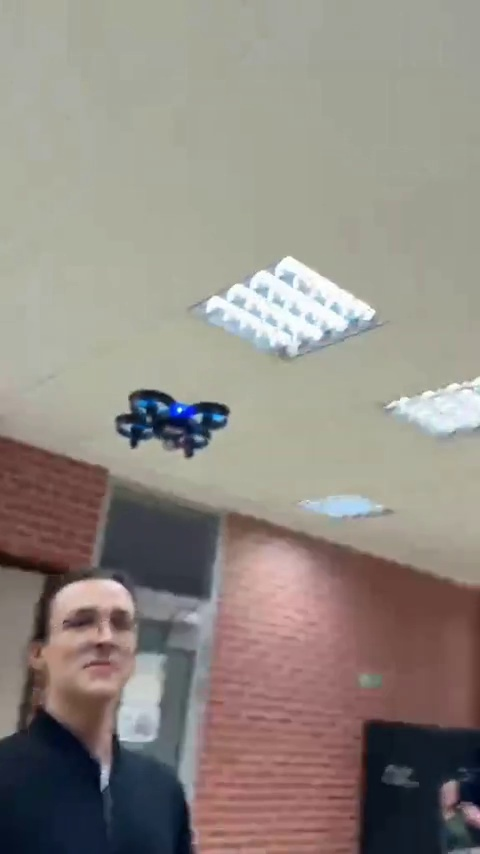drone: (117, 378, 228, 448)
no vest: (6, 566, 194, 848)
